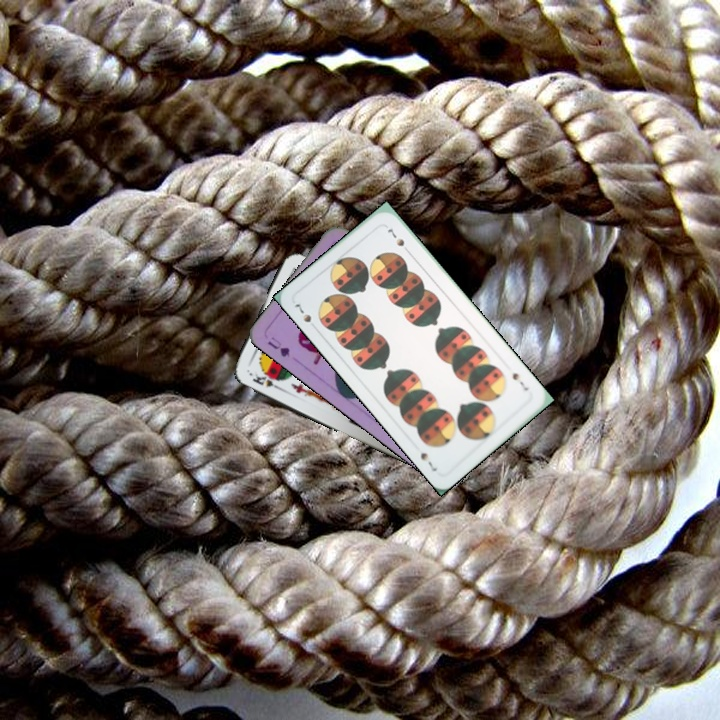GU: (263, 332, 292, 360)
S7: (290, 300, 314, 325), (508, 369, 531, 393)
SK: (248, 369, 284, 393)
